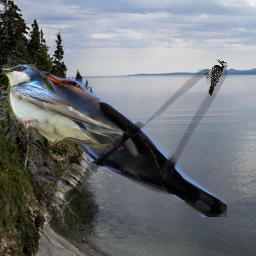Cuckoo: (38, 69, 227, 217)
Swallow: (2, 64, 123, 154)
Woodpecker: (205, 59, 228, 96)
